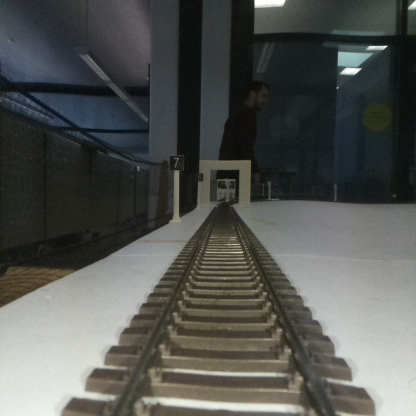black-info-7: (169, 155, 183, 221)
